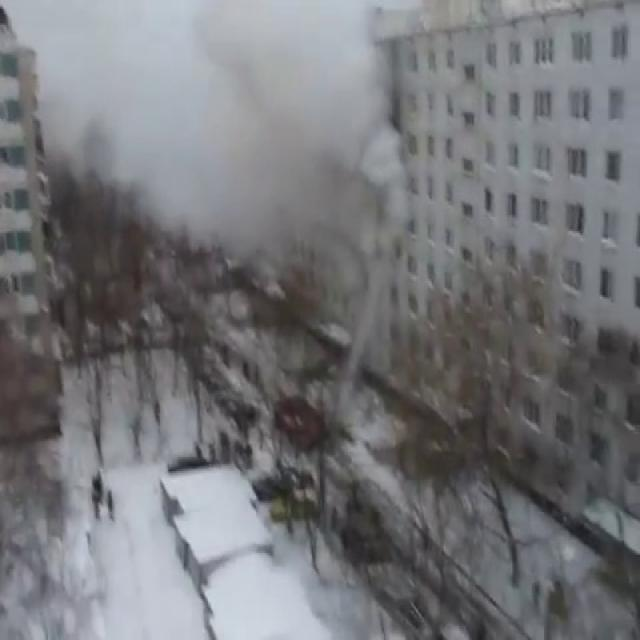Smoke: (4, 0, 452, 276)
